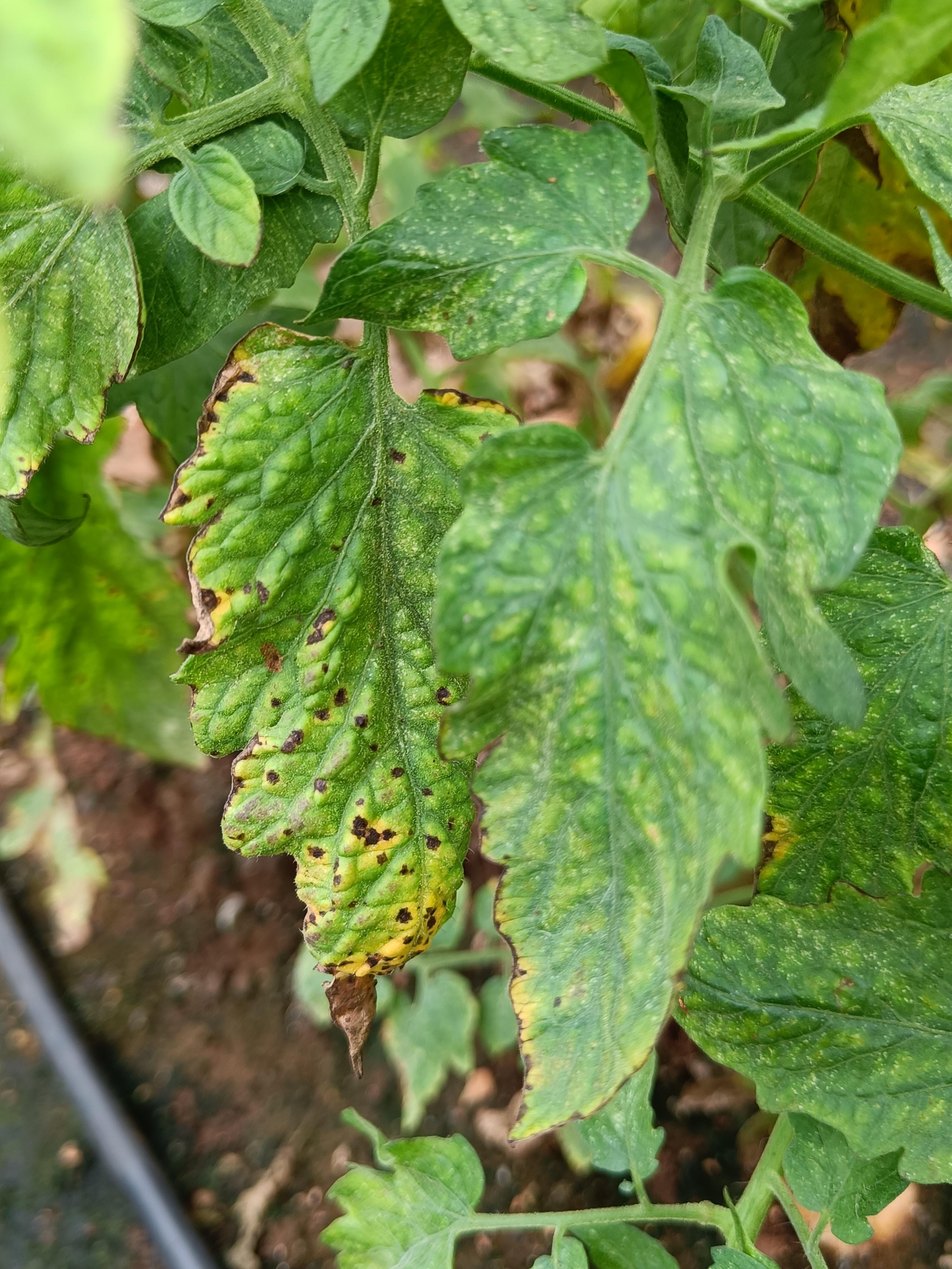Early Blight: (159, 313, 539, 1072)
